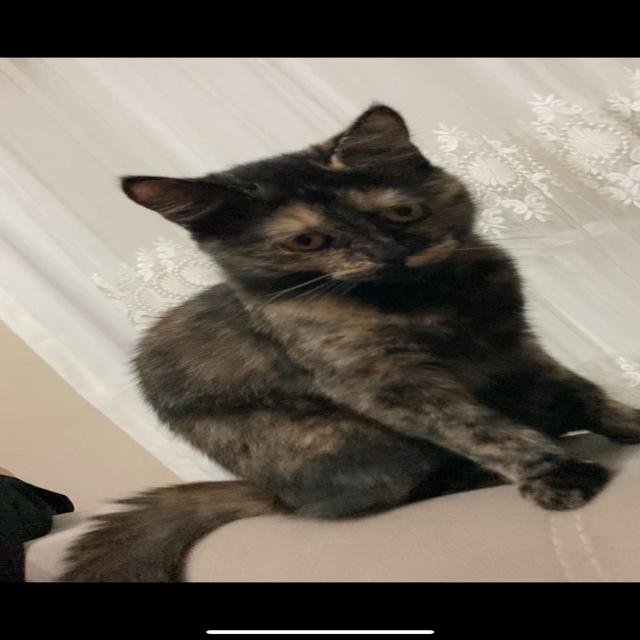authorized: (55, 101, 637, 582)
